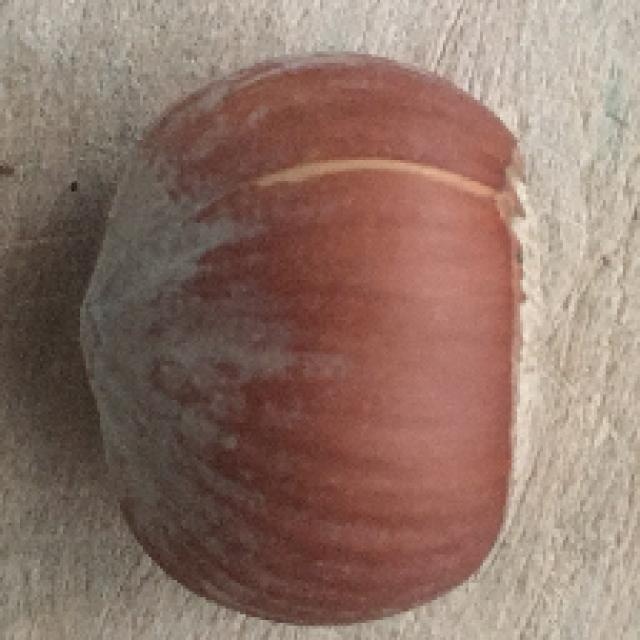qualityHazelnut: (72, 53, 544, 633)
